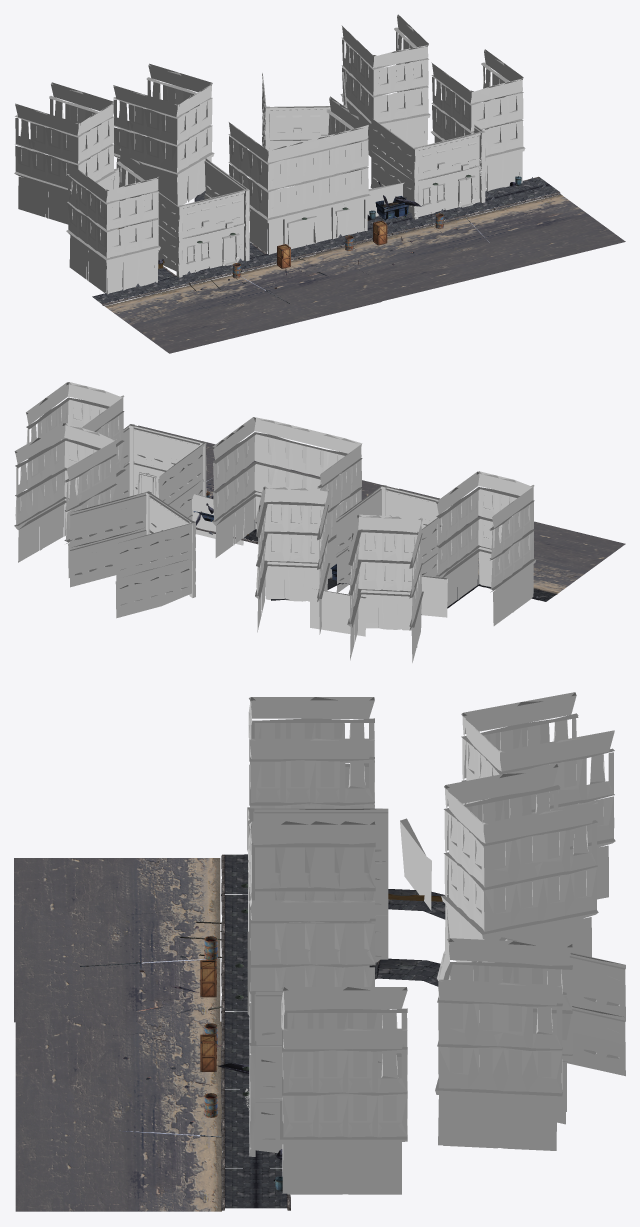
Rendered from Stage01_2.obj.
3 renders of one model, top to bottom at view 1: azimuth 30°, elevation 25°; view 2: azimuth 150°, elevation 25°; view 3: azimuth 270°, elevation 25°, orthographic. The views are drawn at different scales.
Visible parts, largest first — view 1: Asphalt; view 2: Asphalt; view 3: Asphalt.
Boxes of the visible parts, x1,y1,x2,y2 form: Asphalt: (14, 14, 625, 353); Asphalt: (14, 382, 625, 662); Asphalt: (14, 692, 625, 1211).
Bounding box in the file's own units: 4319 × 1081 × 3144.
